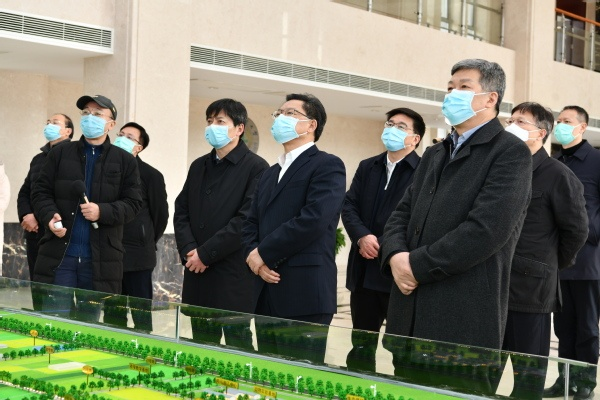correctlyWear: (440, 80, 497, 127), (505, 112, 547, 152), (270, 110, 317, 145), (204, 113, 245, 149), (382, 117, 420, 151), (77, 107, 113, 139), (553, 112, 587, 144), (114, 130, 143, 157), (43, 118, 71, 144)
